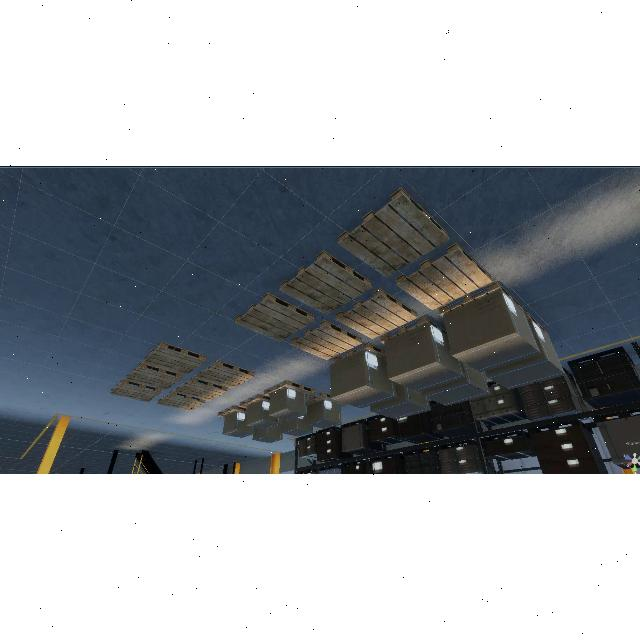wooden_pallet: (337, 188, 450, 278), (395, 242, 492, 309), (279, 250, 372, 314), (335, 287, 417, 339), (235, 292, 314, 341), (437, 282, 523, 318), (290, 320, 362, 361), (142, 341, 207, 375), (379, 315, 447, 344), (196, 360, 255, 389), (126, 363, 184, 390), (177, 378, 227, 401), (156, 390, 205, 412), (332, 342, 385, 362), (263, 381, 316, 398), (238, 393, 271, 410), (217, 405, 246, 419), (307, 392, 335, 405)
